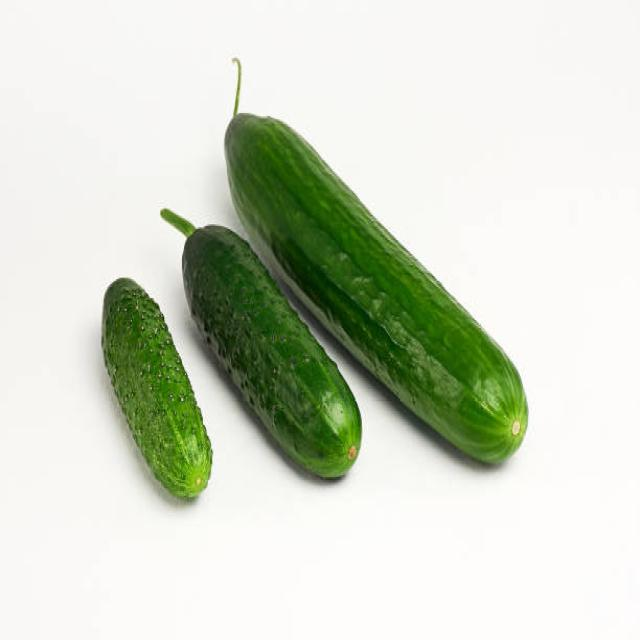cucumber: (224, 110, 529, 462), (182, 222, 363, 482), (101, 275, 213, 501)
